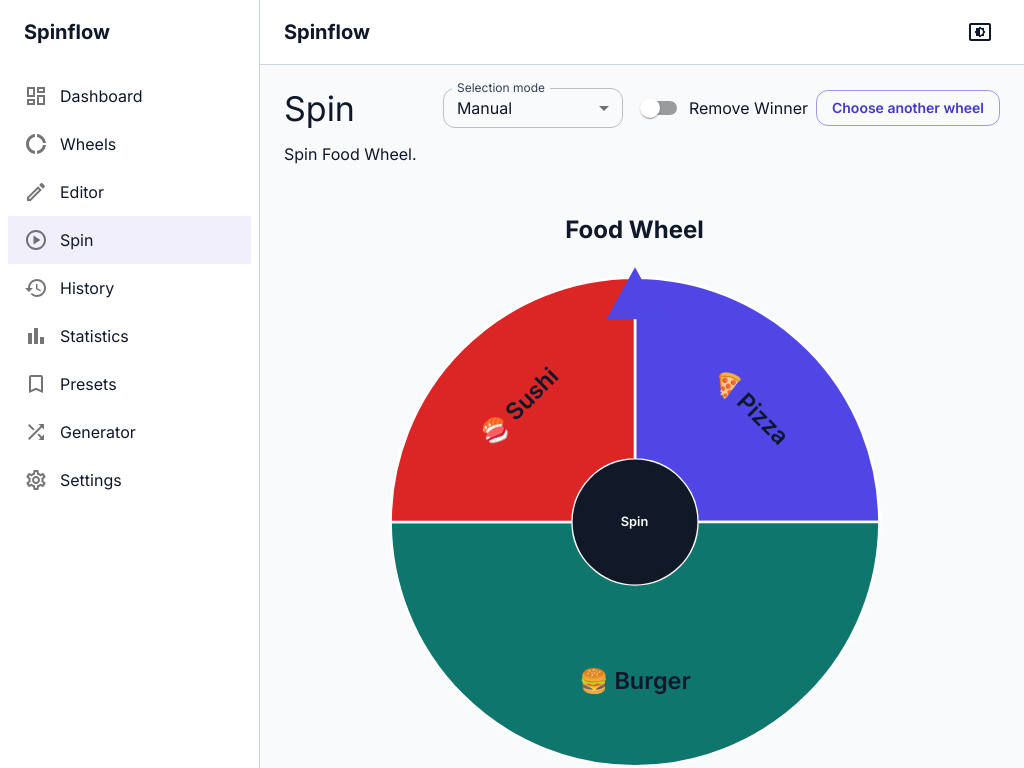
Test: SpinScreen › returns to the picker-level wheel after Start New Selection
The width and height of the screenshot is (1024, 768).
Click the button with aria-label "Spin the wheel": click(634, 522) [575,462,694,582]
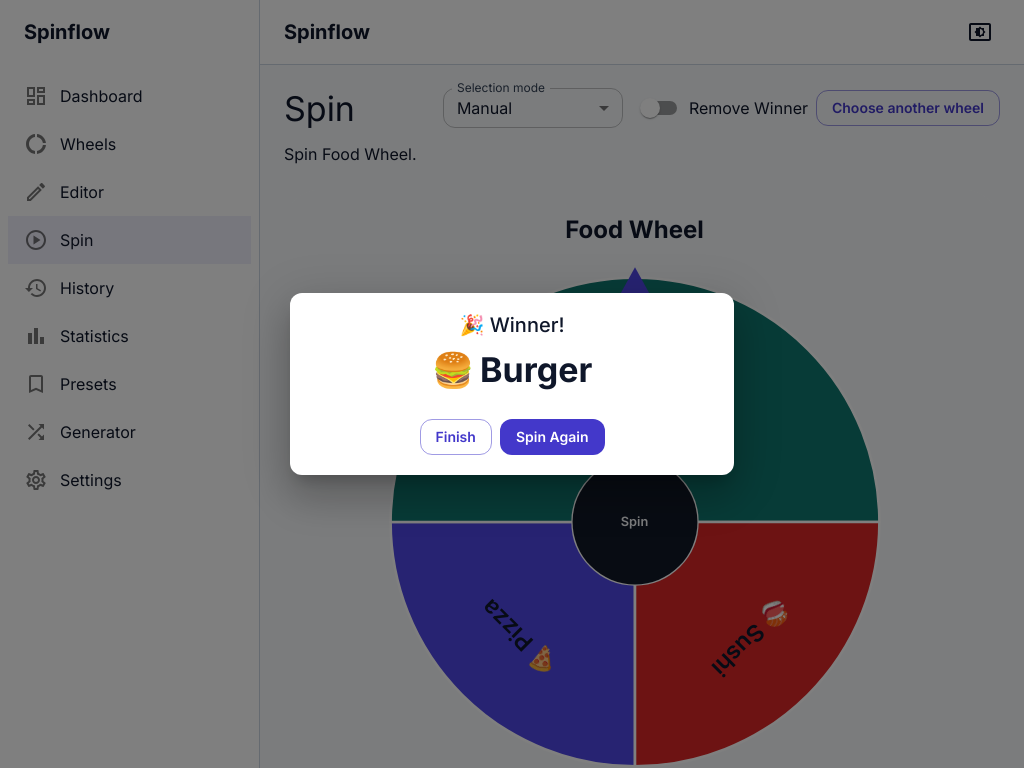
Click the button "Finish": click(456, 437) [420,419,492,455]
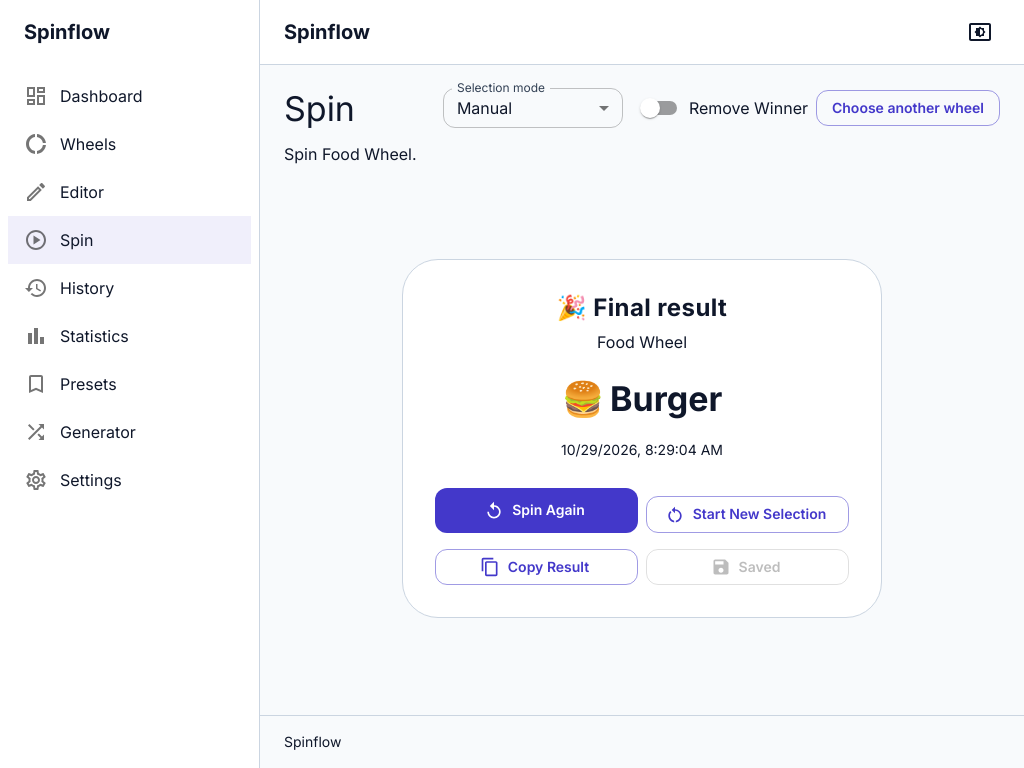
Click the button "Start New Selection": click(748, 515) [646,496,849,533]
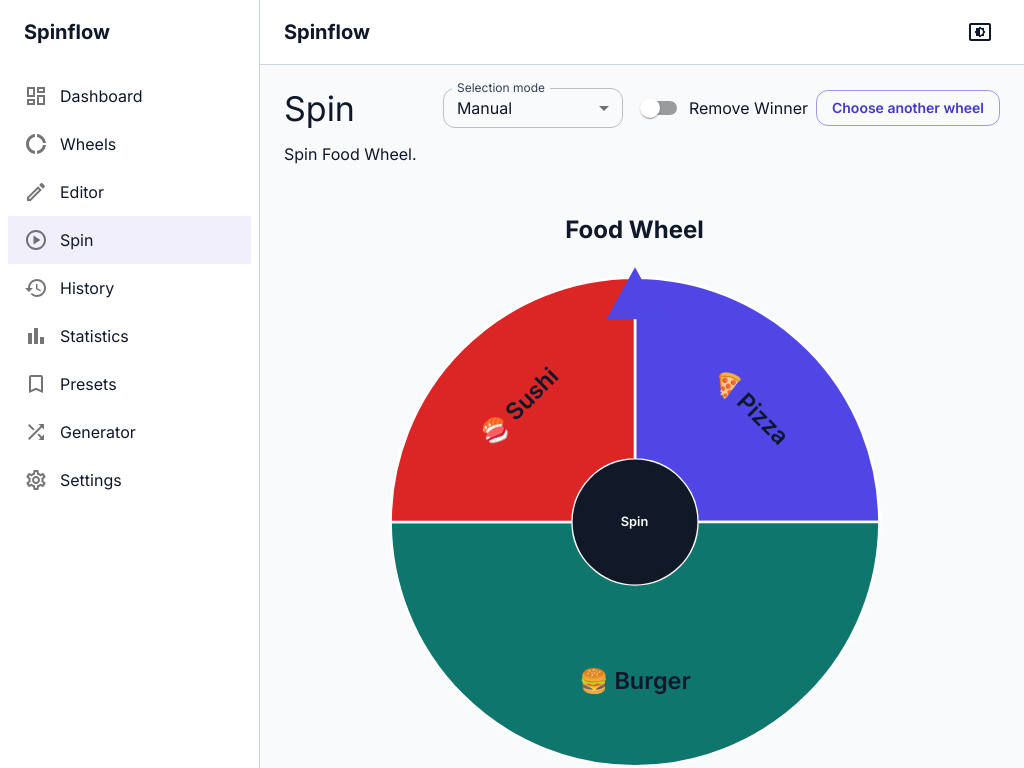
Check: the button with aria-label "Spin the wheel" is enabled, box [575,462,694,582]
Check: the heading "🎉 Final result" is gone
